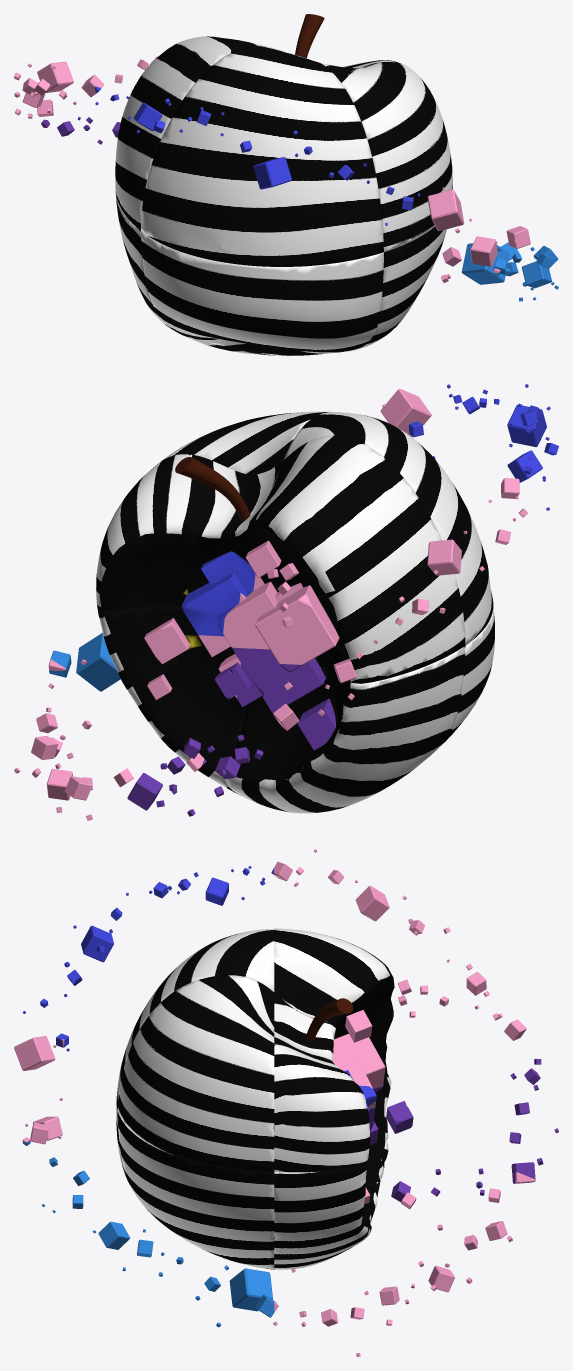
File: SM_Apple.fbx
3 views of the same model, one above another, from view 1: azimuth 30°, elevation 25°; view 2: azimuth 150°, elevation 25°; view 3: azimuth 270°, elevation 25° (orthographic). The views are drawn at different scales.
Parts seen in each view (by area): view 1: 立方体.0003, 立方体.0007, 立方体.0004, 立方体.0002, 立方体.0008, 立方体.0006, 立方体.0001; view 2: 立方体.0002, 立方体.0006, 立方体.0001, 立方体.0005, 立方体.0003, 立方体.0004, 立方体.0007, 立方体.0008; view 3: 立方体.0004, 立方体.0008, 立方体.0002, 立方体.0001, 立方体.0005, 立方体.0003, 立方体.0006.
Boxes of the visible parts, box(x1,y1,x2,y2) form: 立方体.0003: box(77, 45, 431, 266); 立方体.0007: box(141, 231, 383, 355); 立方体.0004: box(318, 62, 530, 272); 立方体.0002: box(14, 36, 268, 230); 立方体.0008: box(321, 226, 558, 354); 立方体.0006: box(41, 117, 274, 355); 立方体.0001: box(295, 14, 401, 68); 立方体.0002: box(223, 435, 527, 730); 立方体.0006: box(127, 646, 465, 816); 立方体.0001: box(96, 454, 283, 636); 立方体.0005: box(14, 606, 246, 820); 立方体.0003: box(284, 384, 558, 645); 立方体.0004: box(162, 389, 431, 474); 立方体.0007: box(442, 605, 494, 744); 立方体.0008: box(49, 633, 120, 691); 立方体.0004: box(14, 975, 274, 1171); 立方体.0008: box(22, 1111, 274, 1327); 立方体.0002: box(274, 849, 526, 1108); 立方体.0001: box(274, 993, 376, 1172); 立方体.0005: box(274, 1164, 535, 1356); 立方体.0003: box(23, 865, 274, 1109); 立方体.0006: box(363, 1056, 558, 1221).
Bounding box in the file's own units: 327 × 234 × 366.
